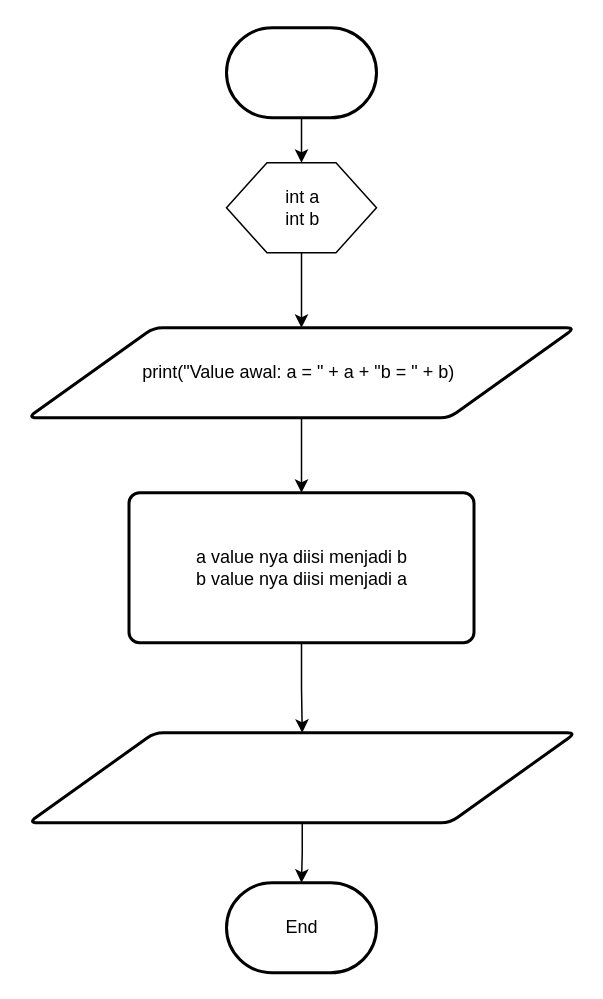
Image size: 603x999. Some labels were removed from this diagram. The centre of each missing label's shape, as x and y in pixels:
print("Value akhir: a = " + a + "b = " + b): pixel 301 777
Start: pixel 300 72
